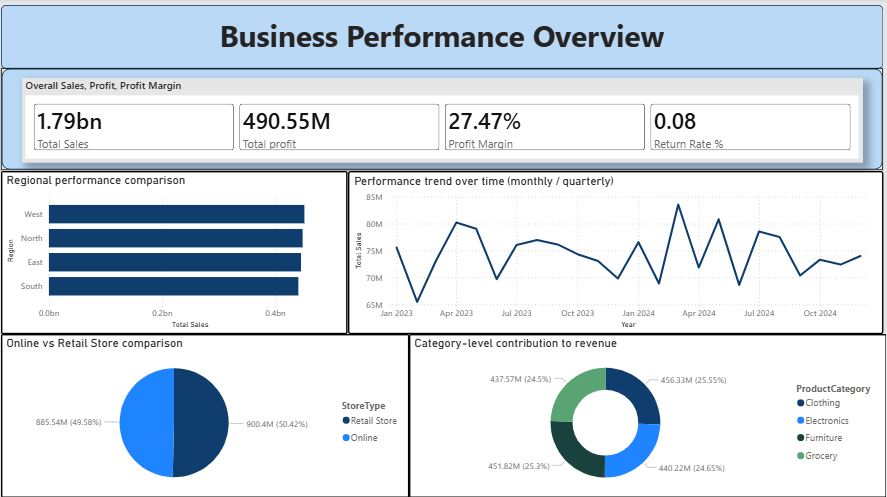

The dashboard page shown, as its layout file describes it:
{"tool":"powerbi","page":{"name":"Business Performance Overview","canvas":[1280,720],"ordinal":0},"visuals":[{"type":"shape","box":[3.6,9.7,1270.4,91.7],"z":0},{"type":"textbox","box":[302.8,20.5,673.2,70],"z":1000},{"type":"shape","box":[4.8,101.3,1270.4,147.2],"z":2000},{"type":"cardVisual","title":"Overall Sales, Profit, Profit Margin","fields":{"Data":["Table.Total Sales","measure.Total profit","measure.Profit Margin","measure.Return Rate %"]},"box":[35,114.6,1211.3,121.9],"z":3000},{"type":"clusteredBarChart","title":"Regional performance comparison","fields":{"Category":["sales.Region"],"Y":["measure.Total Sales"]},"box":[4.8,248.5,499.5,235.3],"z":4000},{"type":"pieChart","title":"Online vs Retail Store comparison","fields":{"Category":["sales.StoreType"],"Y":["measure.Total Sales"]},"box":[4.8,483.8,587.5,236.5],"z":5000},{"type":"donutChart","title":"Category-level contribution to revenue","fields":{"Y":["measure.Total Sales"],"Series":["sales.ProductCategory"]},"box":[592.4,483.8,687.7,236.5],"z":6000},{"type":"lineChart","title":"Performance trend over time (monthly / quarterly)","fields":{"Y":["measure.Total Sales"],"Category":["calendar.Date.Variation.Date Hierarchy.Year","calendar.Date.Variation.Date Hierarchy.Quarter","calendar.Date.Variation.Date Hierarchy.Month"]},"box":[504.3,248.5,770.9,235.3],"z":7000}]}

Visuals, with their boxes in screenshot pixels (x1, y1, x2, y2), scaled from the page's 1280x720 canvas onto the 887x497 screenshot:
shape: x1=2 y1=7 x2=883 y2=70
textbox: x1=210 y1=14 x2=676 y2=62
shape: x1=3 y1=70 x2=884 y2=172
"Overall Sales, Profit, Profit Margin" cardVisual: x1=24 y1=79 x2=864 y2=163
"Regional performance comparison" clusteredBarChart: x1=3 y1=172 x2=349 y2=334
"Online vs Retail Store comparison" pieChart: x1=3 y1=334 x2=410 y2=496
"Category-level contribution to revenue" donutChart: x1=411 y1=334 x2=886 y2=496
"Performance trend over time (monthly / quarterly)" lineChart: x1=349 y1=172 x2=884 y2=334
